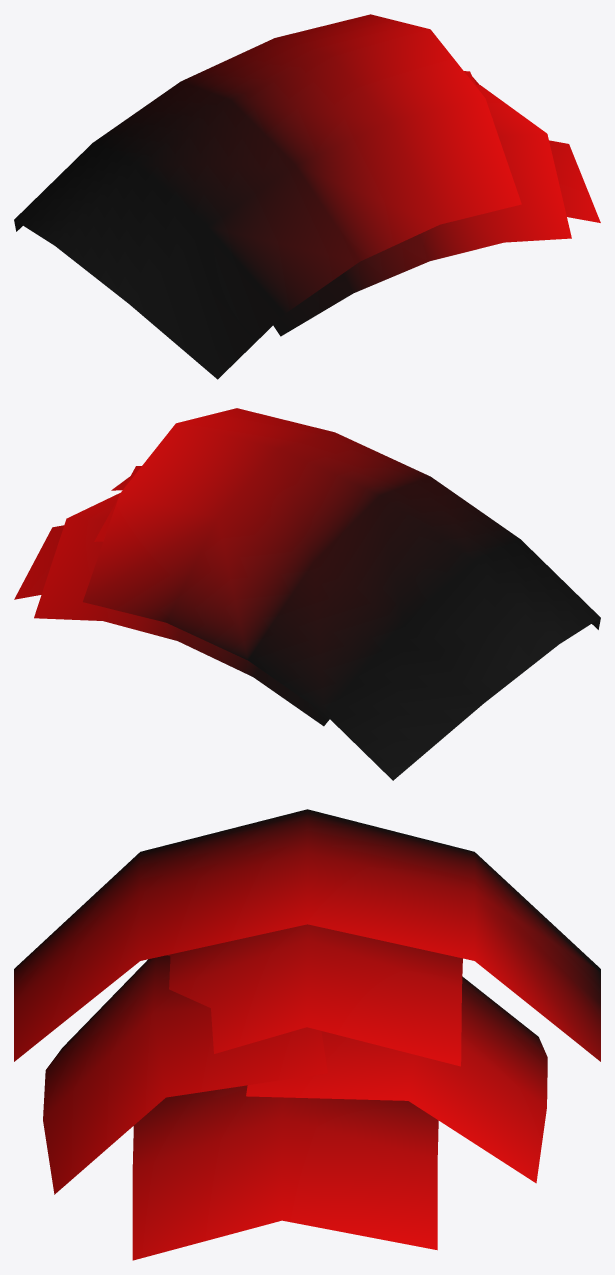
Rendered from SM_Thatch_Clump_Medium_A.fbx.
The picture shows the model from 3 angles, top to bottom: view 1: azimuth 30°, elevation 25°; view 2: azimuth 150°, elevation 25°; view 3: azimuth 270°, elevation 25°; orthographic projection. The views are drawn at different scales.
Parts seen in each view (by area): view 1: SM_Thatch_Clump_Medium_A_LOD0; view 2: SM_Thatch_Clump_Medium_A_LOD0; view 3: SM_Thatch_Clump_Medium_A_LOD0.
Boxes of the visible parts, x1,y1,x2,y2 form: SM_Thatch_Clump_Medium_A_LOD0: (14,14,600,379); SM_Thatch_Clump_Medium_A_LOD0: (14,408,600,780); SM_Thatch_Clump_Medium_A_LOD0: (14,809,600,1260).
Bounding box in the file's own units: 173 × 119 × 65.43.
